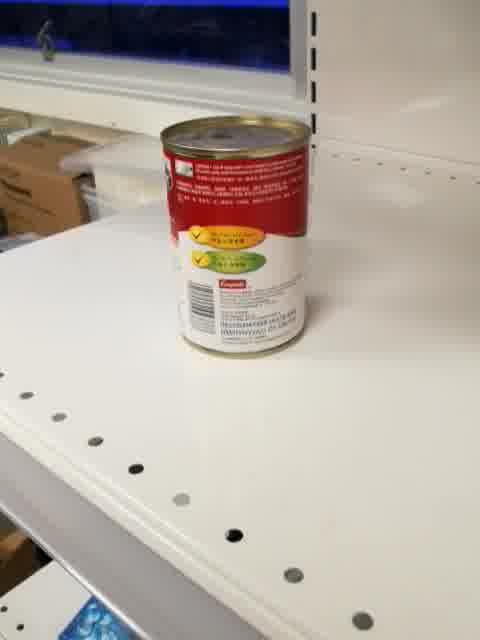tomatosoup: (159, 111, 314, 360)
